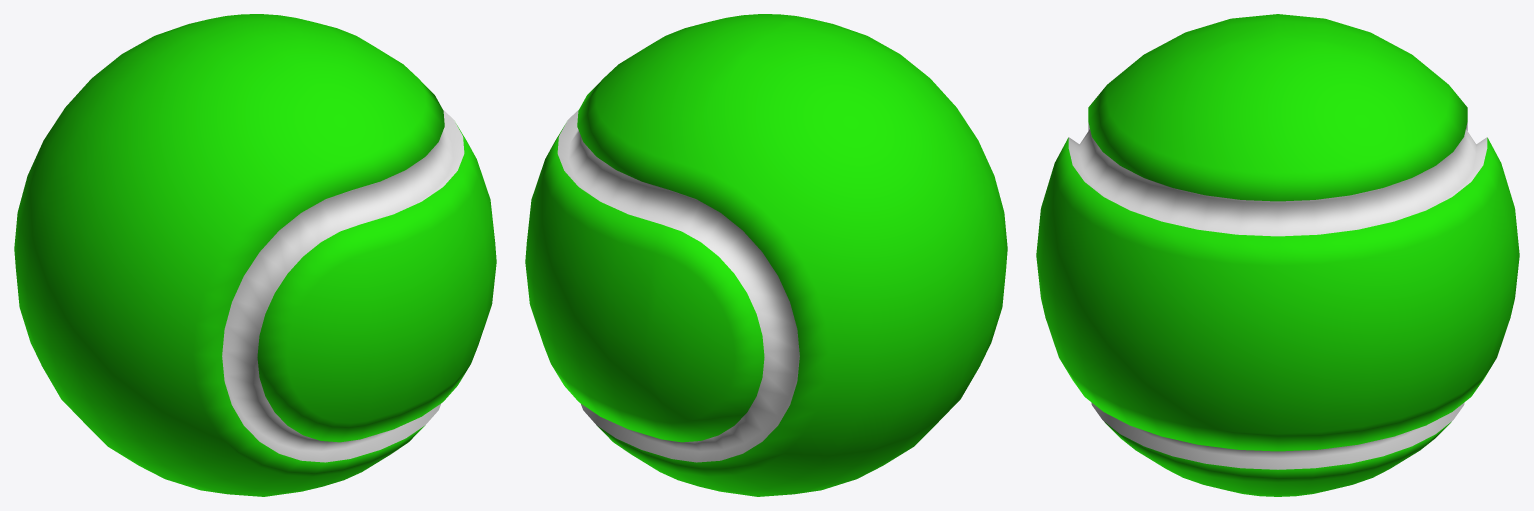
The model's file is Tennis Ball.fbx.
The picture shows the model from 3 angles, left to right: view 1: azimuth 30°, elevation 25°; view 2: azimuth 150°, elevation 25°; view 3: azimuth 270°, elevation 25°; orthographic projection.
Visible parts, largest first — view 1: Sphere; view 2: Sphere; view 3: Sphere.
Boxes of the visible parts, left/top/right/bottom form: Sphere: left=14, top=14, right=496, bottom=496; Sphere: left=525, top=14, right=1007, bottom=496; Sphere: left=1036, top=14, right=1519, bottom=496.
Size of the model in its own units: 200 by 200 by 200.
